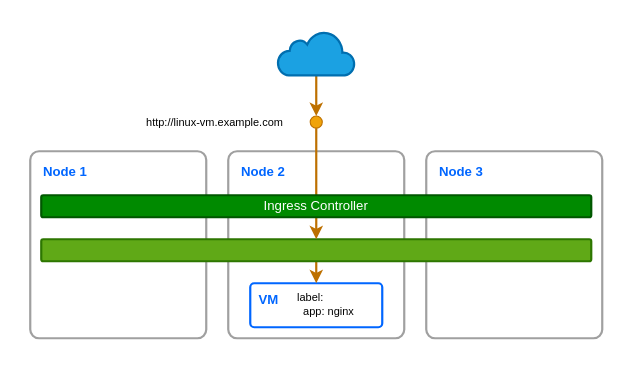
This 631x367 diagram has some shape labels left out. The shapes that lost their labels are listed below. From the top down, each one's centre as x and y in pixels, then its label:
At pixel 315 53: "Network".
At pixel 316 250: "Service".
